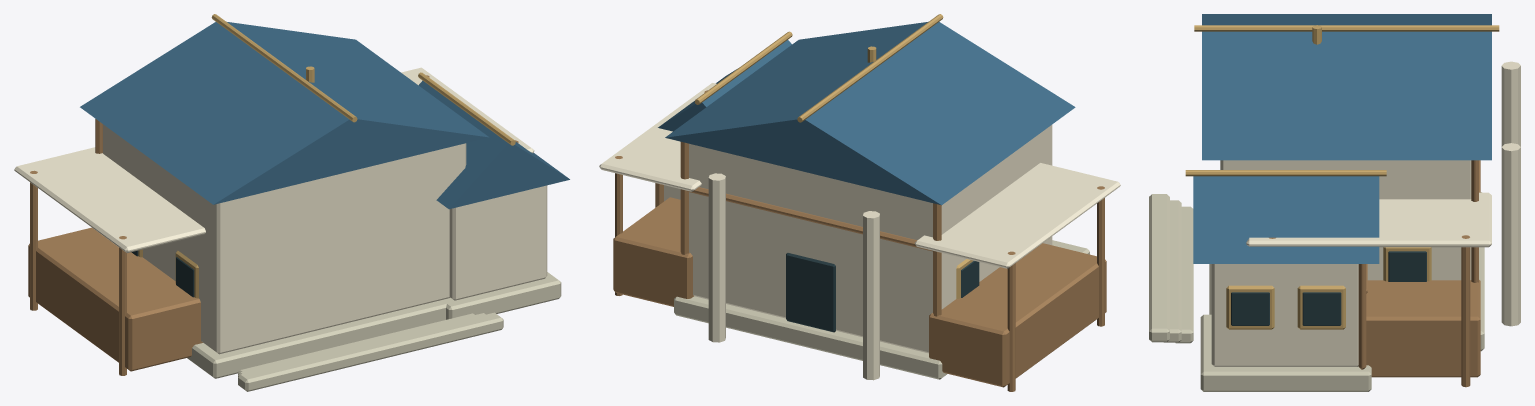
Rendered from level_22.glb.
The picture shows the model from 3 angles, left to right: view 1: azimuth 30°, elevation 25°; view 2: azimuth 150°, elevation 25°; view 3: azimuth 270°, elevation 25°; orthographic projection. The views are drawn at different scales.
Parts seen in each view (by area): view 1: market — level 22; view 2: market — level 22; view 3: market — level 22.
Part boxes in pixels (x1,y1,x2,y2): market — level 22: [14, 14, 569, 391]; market — level 22: [599, 14, 1120, 391]; market — level 22: [1149, 14, 1520, 391].
Size of the model in its own units: 7.08 by 3.87 by 5.
